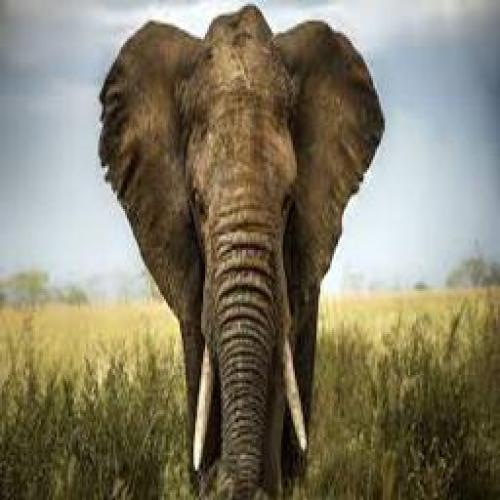african_elephant-endangered: (97, 6, 387, 499)
